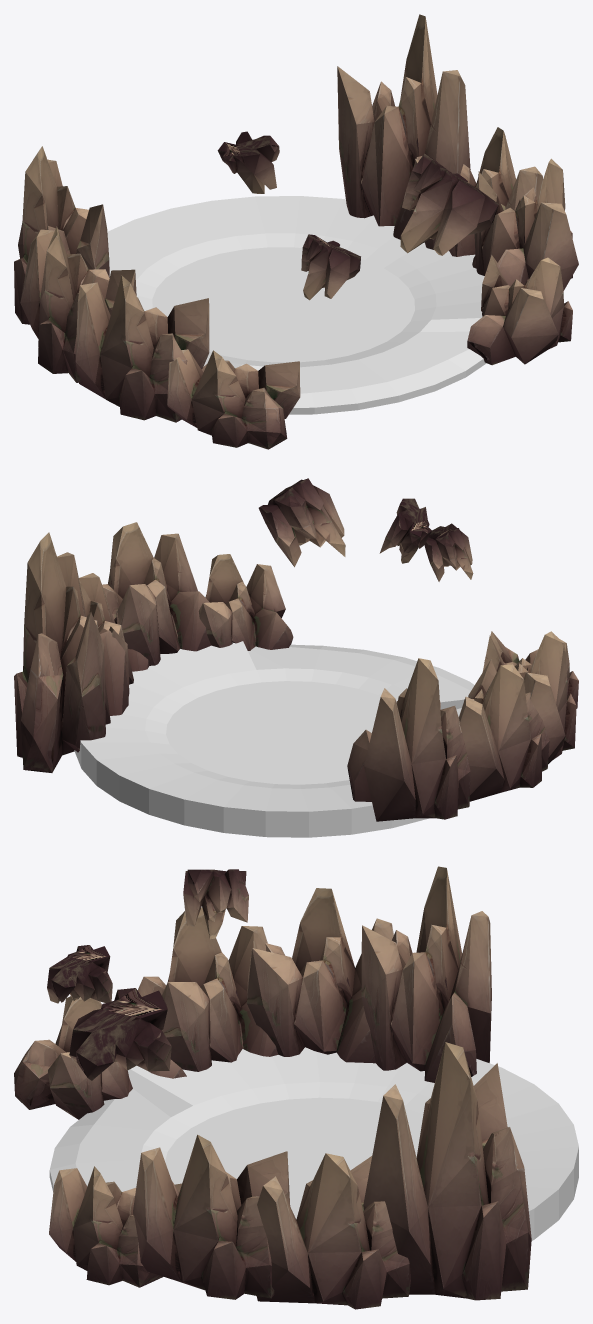
The model's file is Dragon Platform.fbx.
The picture shows the model from 3 angles, top to bottom: view 1: azimuth 30°, elevation 25°; view 2: azimuth 150°, elevation 25°; view 3: azimuth 270°, elevation 25°; orthographic projection. The views are drawn at different scales.
Visible parts, largest first — view 1: Dragon Platform.001, Dragon Platform, Dragon Platform.002, Dragon Platform.004, Dragon Platform.003; view 2: Dragon Platform.001, Dragon Platform, Dragon Platform.002, Dragon Platform.003, Dragon Platform.004; view 3: Dragon Platform.001, Dragon Platform, Dragon Platform.002, Dragon Platform.003, Dragon Platform.004.
Part boxes in pixels (left/top/right/bottom): Dragon Platform.001: left=14, top=14, right=578, bottom=449; Dragon Platform: left=107, top=196, right=486, bottom=414; Dragon Platform.002: left=400, top=153, right=498, bottom=255; Dragon Platform.004: left=301, top=234, right=360, bottom=300; Dragon Platform.003: left=217, top=131, right=279, bottom=193; Dragon Platform.001: left=14, top=522, right=578, bottom=821; Dragon Platform: left=74, top=641, right=474, bottom=837; Dragon Platform.002: left=258, top=478, right=345, bottom=567; Dragon Platform.003: left=379, top=498, right=431, bottom=563; Dragon Platform.004: left=424, top=523, right=473, bottom=581; Dragon Platform.001: left=14, top=866, right=531, bottom=1309; Dragon Platform: left=49, top=1047, right=578, bottom=1240; Dragon Platform.002: left=69, top=988, right=171, bottom=1080; Dragon Platform.003: left=183, top=869, right=248, bottom=939; Dragon Platform.004: left=47, top=945, right=112, bottom=1003.
Bounding box in the file's own units: 4197 × 1926 × 3533.
